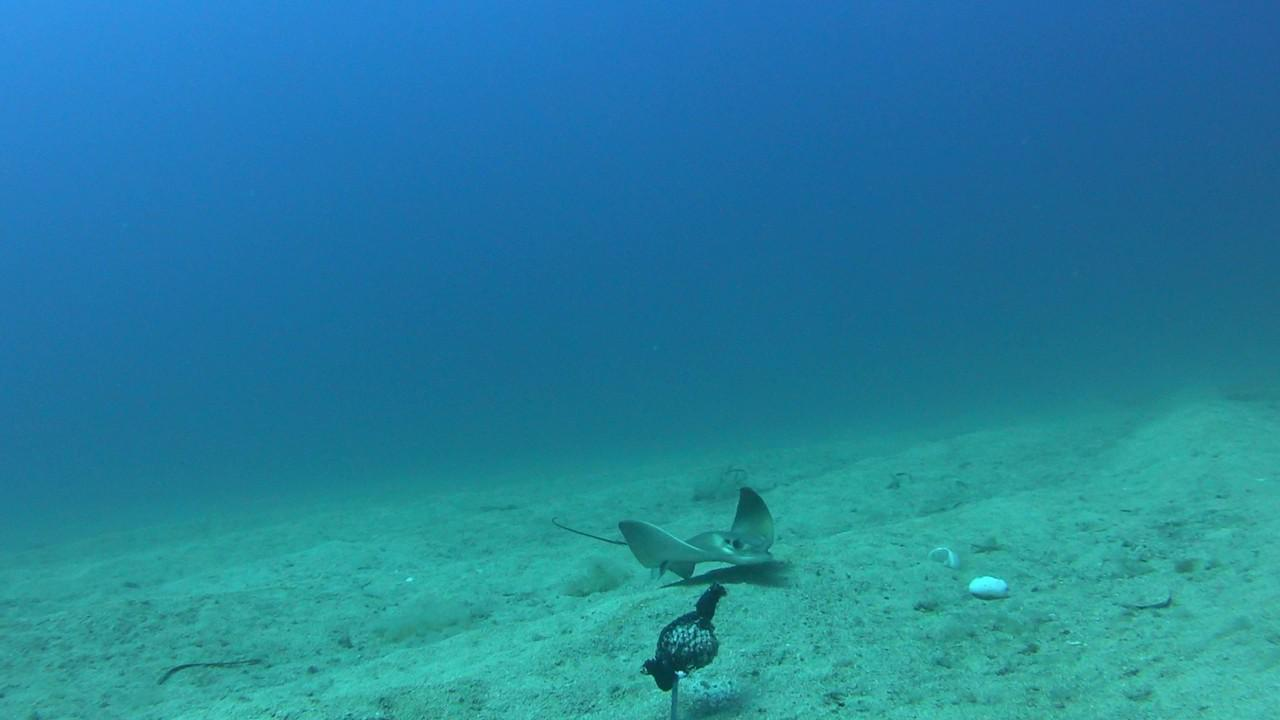myliobatis: (538, 474, 803, 588)
